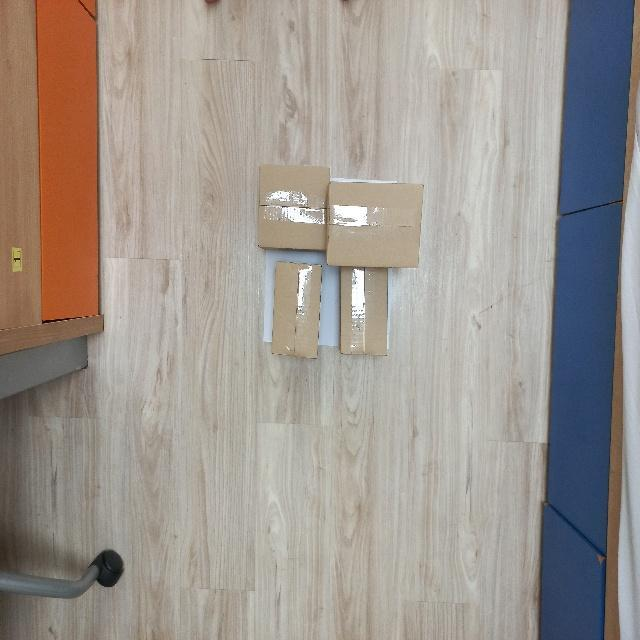box: (327, 183, 425, 270), (255, 160, 329, 252), (270, 261, 322, 361), (339, 267, 393, 361)
